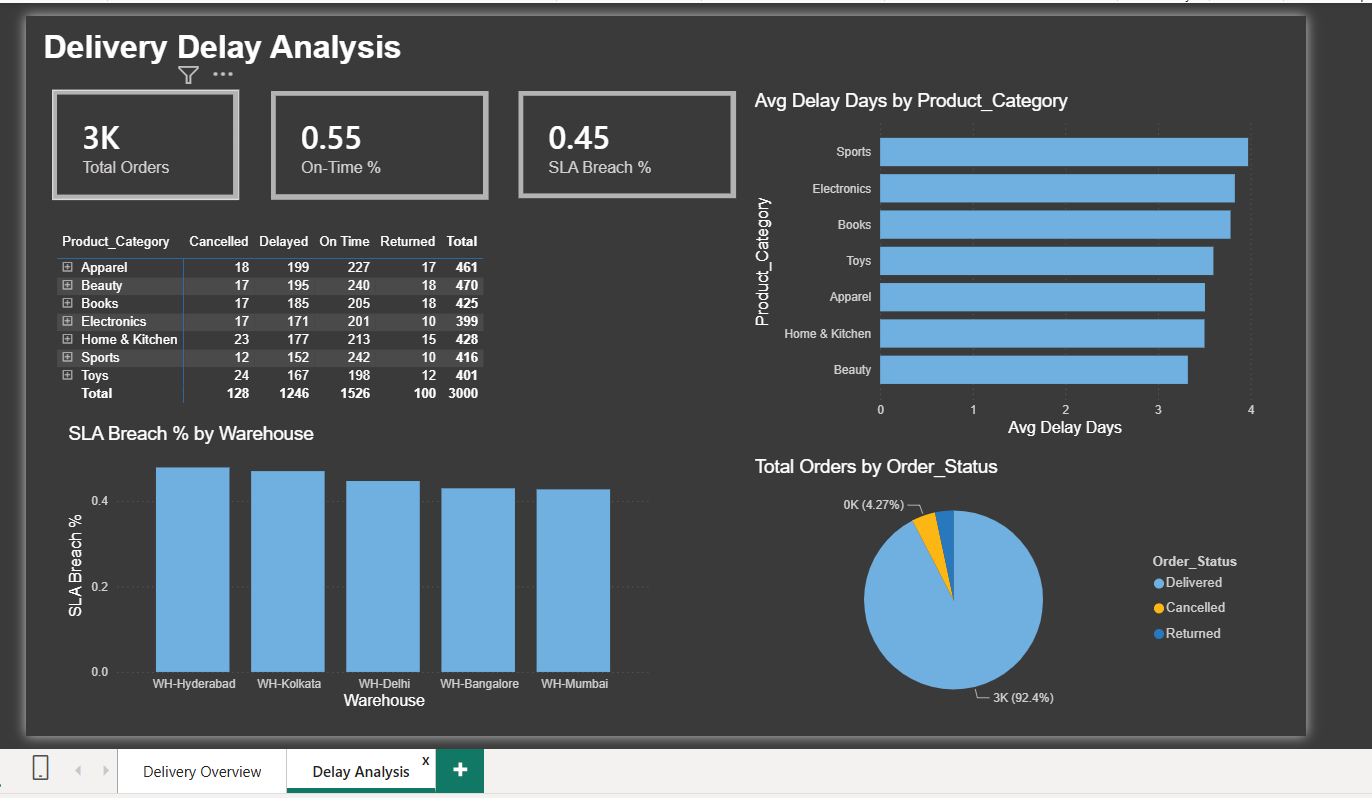

This screenshot's page, from the dashboard's own definition file:
{"tool":"powerbi","page":{"name":"Delay Analysis","canvas":[1280,720],"ordinal":1},"visuals":[{"type":"textbox","box":[12.5,8.8,512.5,53.8],"z":0},{"type":"pivotTable","fields":{"Rows":["Fact_Orders.Product_Category","Fact_Orders.Region"],"Columns":["Fact_Orders.Delivery_Status"],"Values":["Fact_Orders.Total Orders"]},"box":[26.2,211.2,613.8,196.2],"z":1},{"type":"clusteredBarChart","fields":{"Category":["Fact_Orders.Product_Category"],"Y":["Fact_Orders.Avg Delay Days"]},"box":[723.8,73.8,510,351.2],"z":2},{"type":"columnChart","fields":{"Category":["Fact_Orders.Warehouse"],"Y":["Fact_Orders.SLA Breach %"]},"box":[37.5,407.5,592.5,291.2],"z":3},{"type":"pieChart","fields":{"Category":["Fact_Orders.Order_Status"],"Y":["Fact_Orders.Total Orders"]},"box":[723.8,440,510,267.5],"z":4},{"type":"cardVisual","fields":{"Data":["Fact_Orders.Total Orders"]},"box":[26.2,73.8,186.2,110],"z":5},{"type":"cardVisual","fields":{"Data":["Fact_Orders.On-Time %"]},"box":[245,75,217.5,108.8],"z":6},{"type":"cardVisual","fields":{"Data":["Fact_Orders.SLA Breach %"]},"box":[492.5,75,217.5,107.5],"z":7}]}

Visuals, with their boxes on the page's 1280x720 design canvas (x1, y1, x2, y2). These are canvas units, not pixel positions in the 1372x798 screenshot, which may show the page scaled, cropped or inside an application window:
textbox: 12 9 525 63
pivotTable - Fact_Orders.Product_Category x Fact_Orders.Region: 26 211 640 407
clusteredBarChart - Fact_Orders.Product_Category x Fact_Orders.Avg Delay Days: 724 74 1234 425
columnChart - Fact_Orders.Warehouse x Fact_Orders.SLA Breach %: 38 408 630 699
pieChart - Fact_Orders.Order_Status x Fact_Orders.Total Orders: 724 440 1234 708
cardVisual - Fact_Orders.Total Orders: 26 74 212 184
cardVisual - Fact_Orders.On-Time %: 245 75 462 184
cardVisual - Fact_Orders.SLA Breach %: 492 75 710 182
